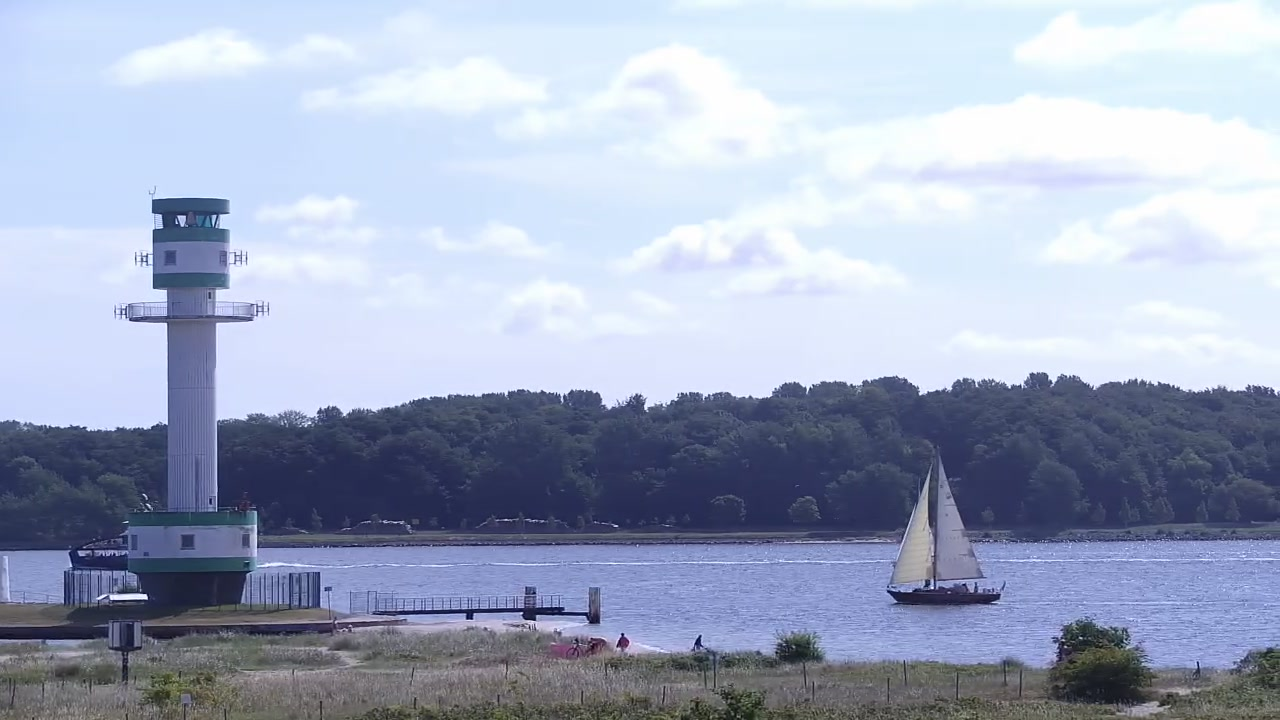human: (615, 632, 630, 654), (691, 633, 704, 652), (332, 616, 339, 634)
land: (565, 637, 606, 660)
sea: (885, 441, 1005, 605)
